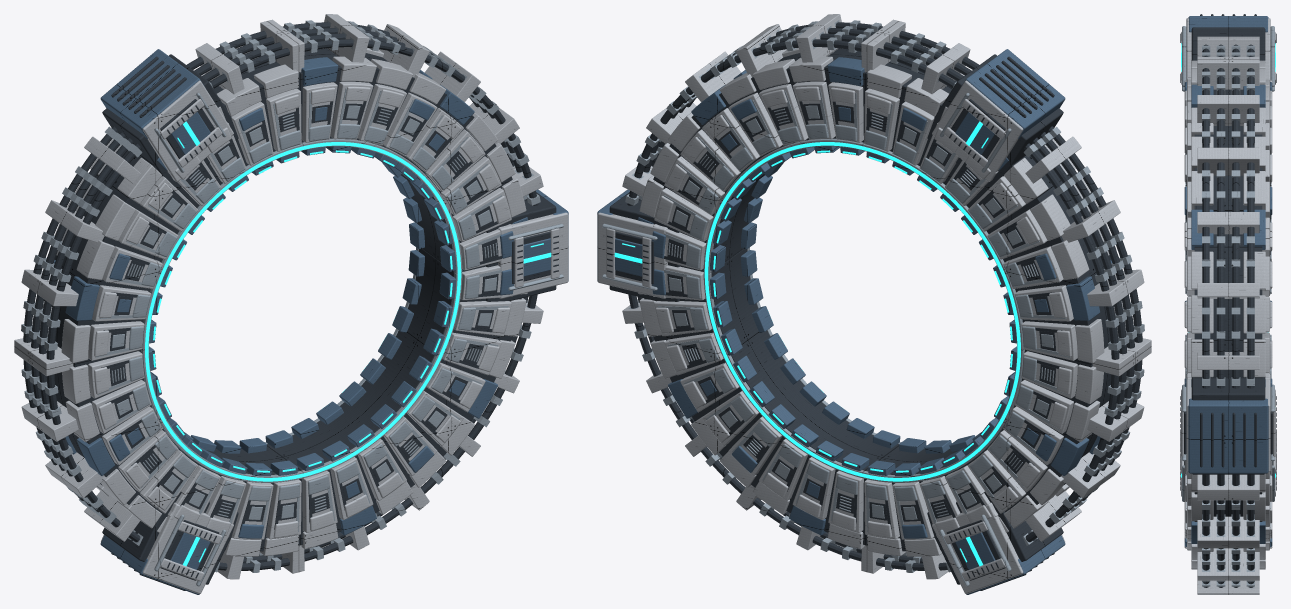
Rendered from transit-gate.glb.
3 renders of one model, left to right at view 1: azimuth 30°, elevation 25°; view 2: azimuth 150°, elevation 25°; view 3: azimuth 270°, elevation 25°, orthographic. The views are drawn at different scales.
Parts seen in each view (by area): view 1: Dorbit transit gate; view 2: Dorbit transit gate; view 3: Dorbit transit gate.
Boxes of the visible parts, x1=… form: Dorbit transit gate: x1=14, y1=14, x2=568, y2=594; Dorbit transit gate: x1=597, y1=14, x2=1151, y2=594; Dorbit transit gate: x1=1180, y1=14, x2=1276, y2=594.
Bounding box in the file's own units: 42.73 × 41.4 × 7.08.
5 materials, 4 textured.
